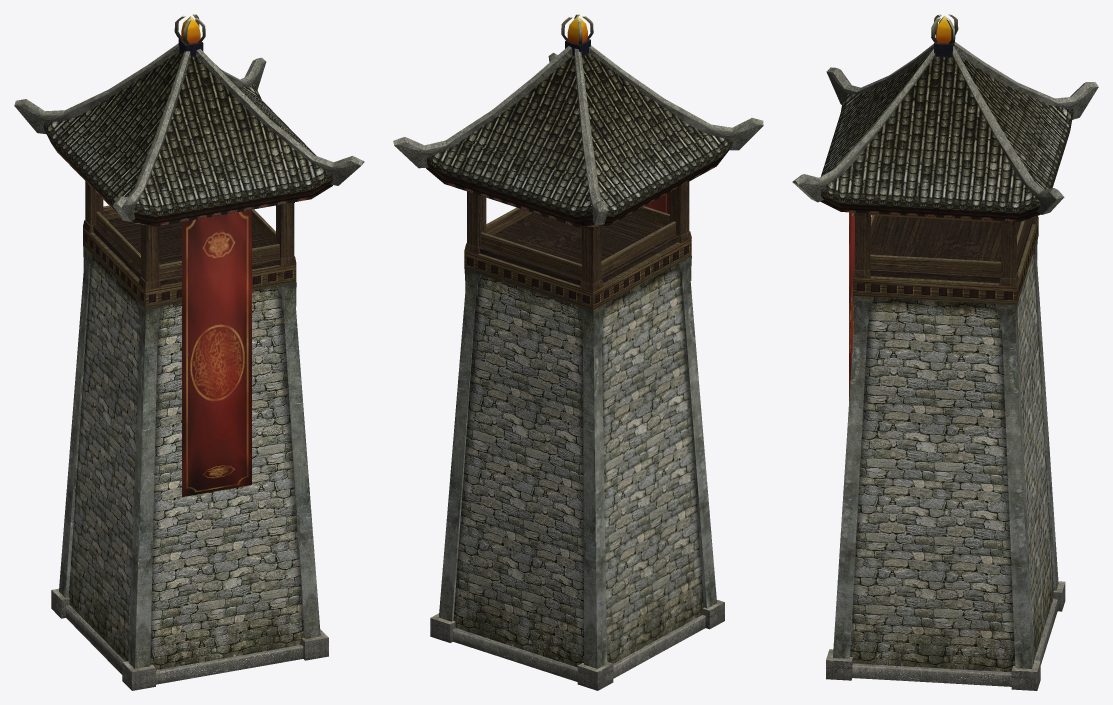
File: 1st_pillar_001.fbx
3 views of the same model, side by side, from view 1: azimuth 30°, elevation 25°; view 2: azimuth 150°, elevation 25°; view 3: azimuth 270°, elevation 25° (orthographic). The views are drawn at different scales.
Parts seen in each view (by area): view 1: 12T_01; view 2: 12T_01; view 3: 12T_01.
Part boxes in pixels (left/top/right/bottom): 12T_01: left=14, top=14, right=364, bottom=690; 12T_01: left=393, top=14, right=763, bottom=690; 12T_01: left=792, top=14, right=1098, bottom=690.
Size of the model in its own units: 5.49 by 12.29 by 5.47.
